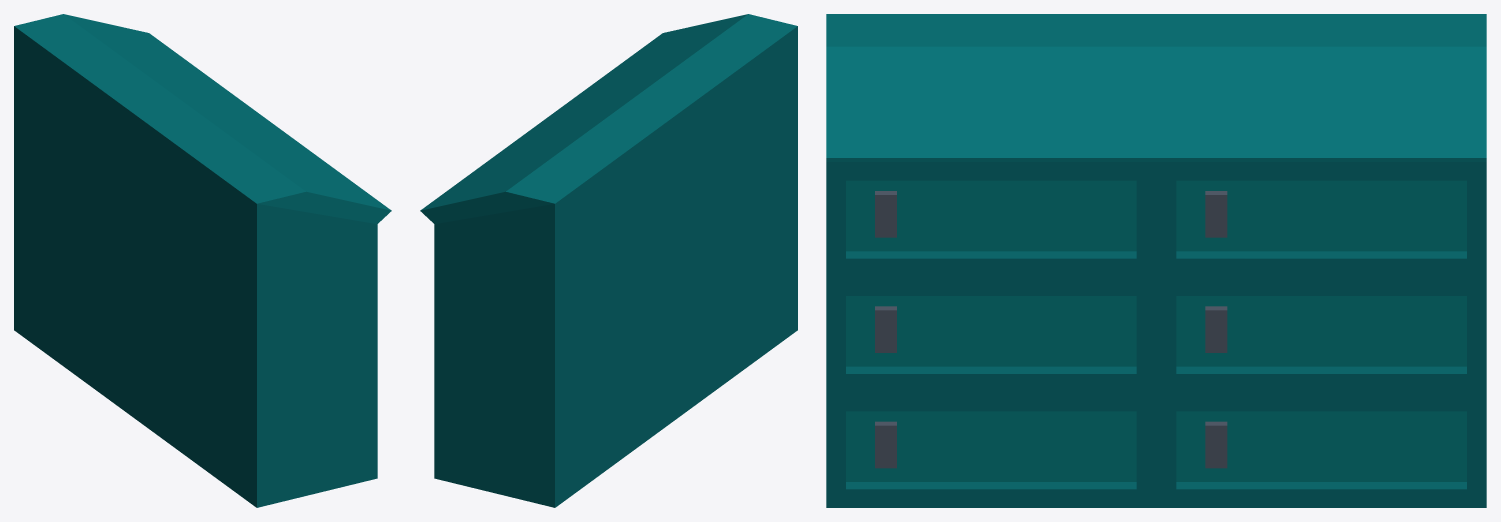
File: PostBox_2_E.fbx
3 views of the same model, side by side, from view 1: azimuth 30°, elevation 25°; view 2: azimuth 150°, elevation 25°; view 3: azimuth 270°, elevation 25° (orthographic). The views are drawn at different scales.
Parts seen in each view (by area): view 1: PostBox_2_E; view 2: PostBox_2_E; view 3: PostBox_2_E.
Part boxes in pixels (box(x1,y1,x2,y2)): PostBox_2_E: box(14, 14, 391, 507); PostBox_2_E: box(420, 14, 797, 507); PostBox_2_E: box(826, 14, 1486, 507).
Bounding box in the file's own units: 19.48 × 41.93 × 60.65.
